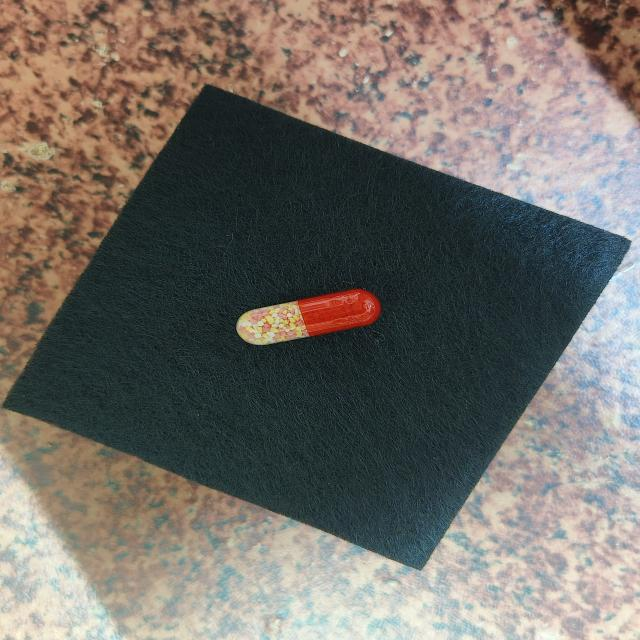Intact Capsule: (236, 289, 381, 345)
